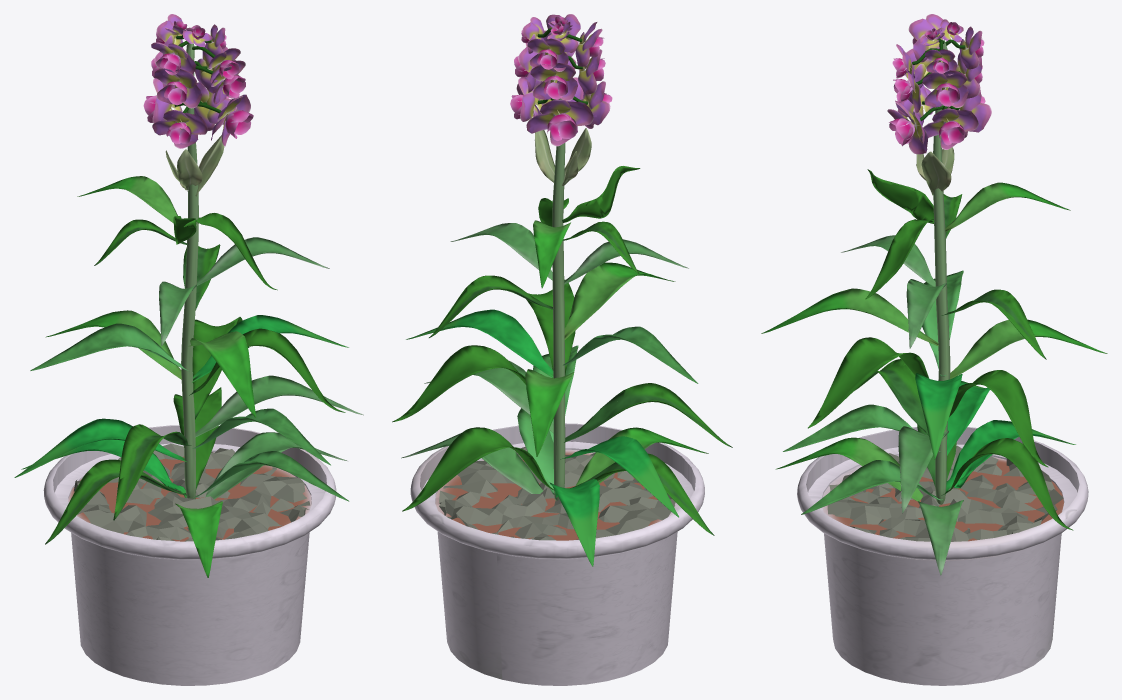
Rendered from snapdragon.obj.
3 views of the same model, side by side, from view 1: azimuth 30°, elevation 25°; view 2: azimuth 150°, elevation 25°; view 3: azimuth 270°, elevation 25° (orthographic).
Parts seen in each view (by area): view 1: SnapdragonPlant; view 2: SnapdragonPlant; view 3: SnapdragonPlant.
Boxes of the visible parts, x1,y1,x2,y2 form: SnapdragonPlant: (14, 14, 363, 685); SnapdragonPlant: (392, 14, 732, 685); SnapdragonPlant: (761, 14, 1107, 685).
Size of the model in its own units: 0.6967 by 1.34 by 0.6841.
